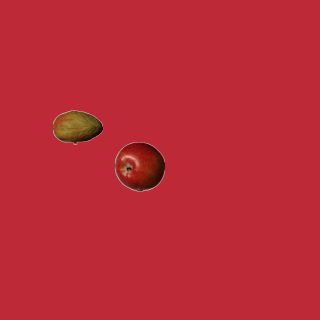Apple Braeburn: (114, 141, 164, 191)
Papaya: (52, 102, 102, 152)
